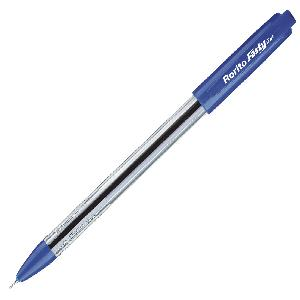pen: (8, 3, 300, 288)
